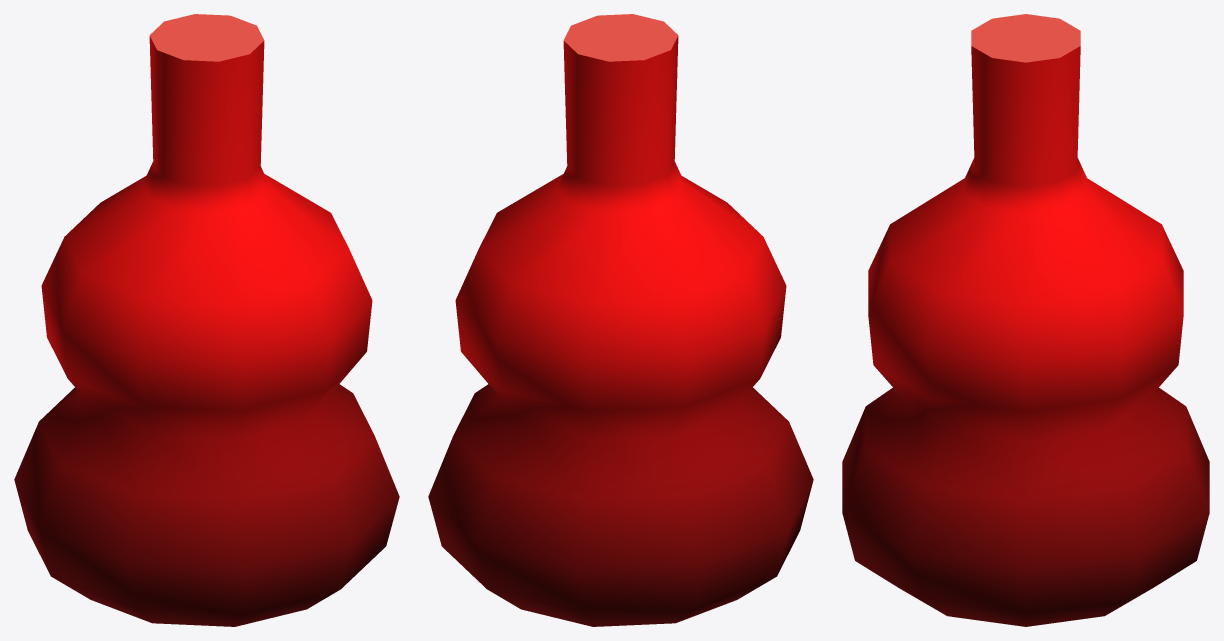
File: Potion_Special_B_Liquid.fbx
3 renders of one model, left to right at view 1: azimuth 30°, elevation 25°; view 2: azimuth 150°, elevation 25°; view 3: azimuth 270°, elevation 25°, orthographic.
Parts seen in each view (by area): view 1: Potion_Special_B_Liquid; view 2: Potion_Special_B_Liquid; view 3: Potion_Special_B_Liquid.
Part boxes in pixels (box(x1,y1,x2,y2)): Potion_Special_B_Liquid: box(14, 14, 399, 626); Potion_Special_B_Liquid: box(428, 14, 813, 626); Potion_Special_B_Liquid: box(842, 14, 1209, 626).
Bounding box in the file's own units: 48.47 × 75.95 × 46.1.
